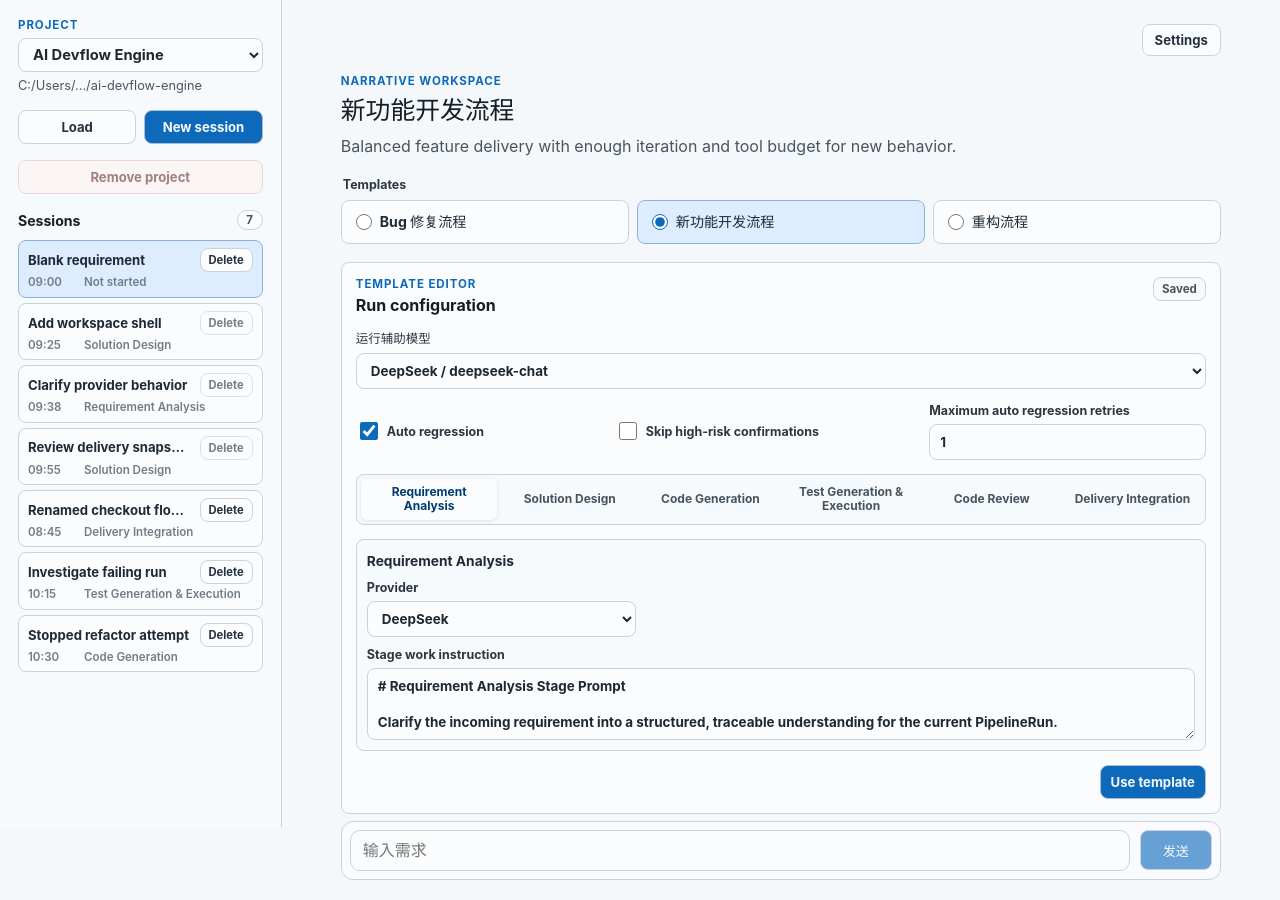
Test: WorkspaceShell › switches the current project and keeps shell-only destructive actions disabled
Select "Checkout Service" in the dropdown named "Switch project" at (140, 55), box top-left (18, 38), bottom-right (263, 72)
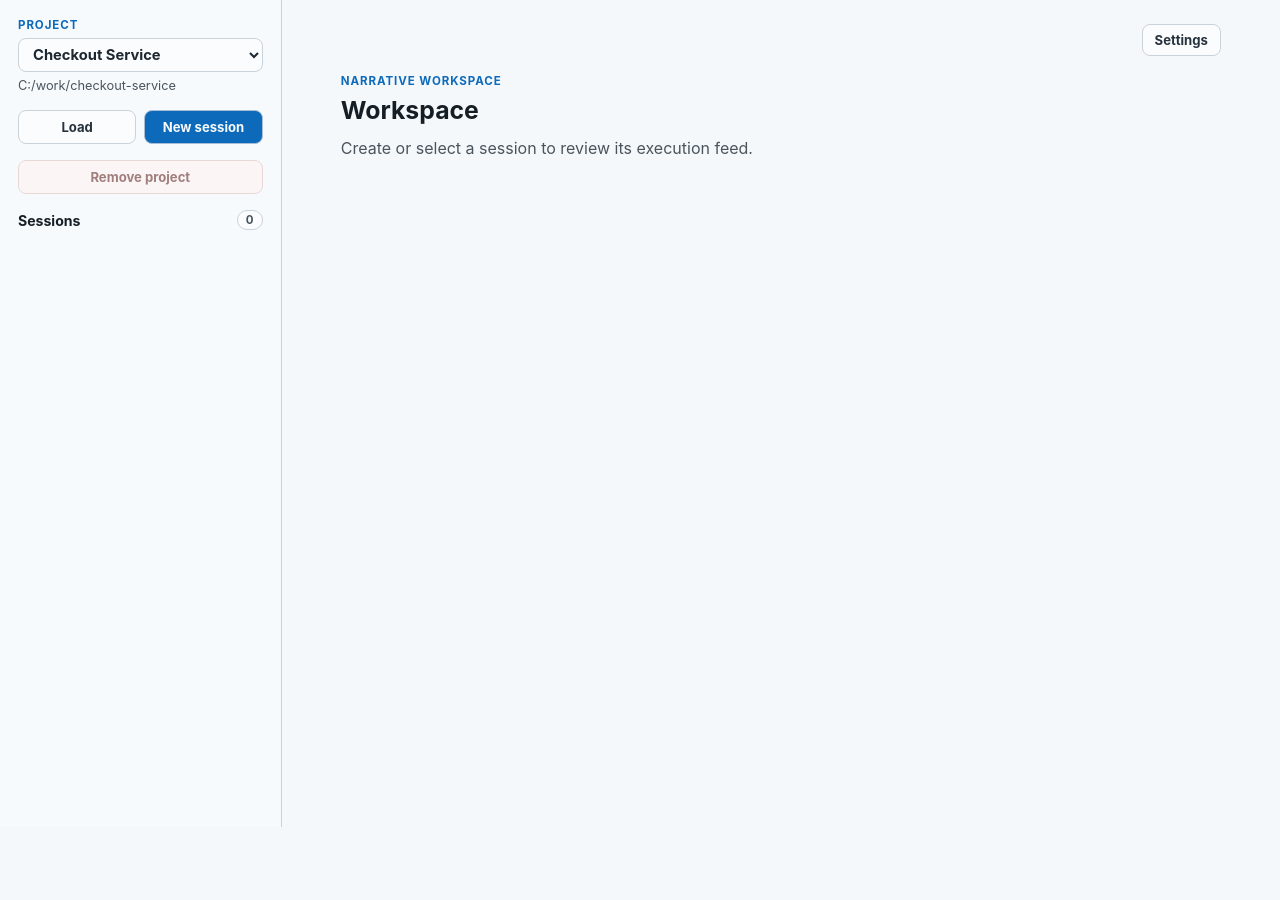
Expected: the button with aria-label "Remove Checkout Service unavailable" is disabled, top-left (18, 160), bottom-right (263, 194)
Expected: the text "C:/work/checkout-service" is shown, top-left (18, 78), bottom-right (176, 93)
